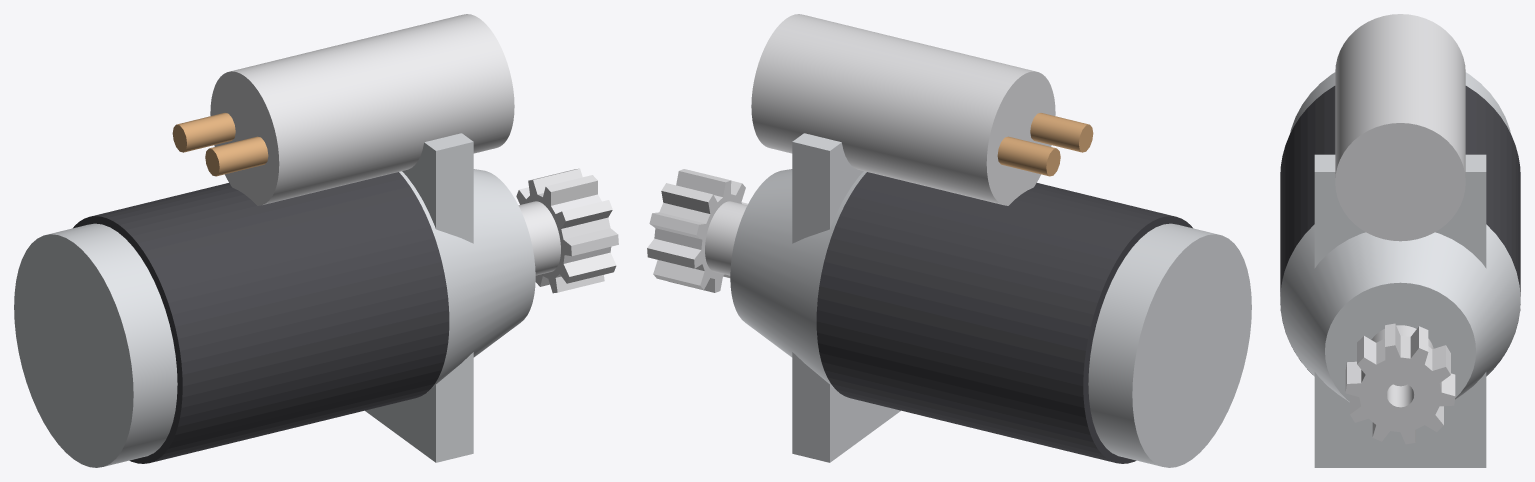
Rendered from motor_arranque.glb.
3 renders of one model, left to right at view 1: azimuth 30°, elevation 25°; view 2: azimuth 150°, elevation 25°; view 3: azimuth 270°, elevation 25°, orthographic. The views are drawn at different scales.
Visible parts, largest first — view 1: carcasa, solenoide, tapa_trasera, pinon_bendix; view 2: carcasa, solenoide, tapa_trasera, pinon_bendix; view 3: carcasa, solenoide, pinon_bendix, tapa_trasera.
Boxes of the visible parts, left/top/right/bottom form: carcasa: left=73, top=133, right=535, bottom=463; solenoide: left=172, top=14, right=514, bottom=205; tapa_trasera: left=14, top=223, right=177, bottom=467; pinon_bendix: left=516, top=168, right=618, bottom=293; carcasa: left=730, top=133, right=1192, bottom=463; solenoide: left=751, top=14, right=1093, bottom=205; tapa_trasera: left=1088, top=223, right=1251, bottom=467; pinon_bendix: left=647, top=169, right=747, bottom=292; carcasa: left=1280, top=86, right=1520, bottom=467; solenoide: left=1335, top=14, right=1465, bottom=241; pinon_bendix: left=1345, top=323, right=1455, bottom=444; tapa_trasera: left=1290, top=72, right=1510, bottom=133.
Bounding box in the file's own units: 1.64 × 1.18 × 0.7.
